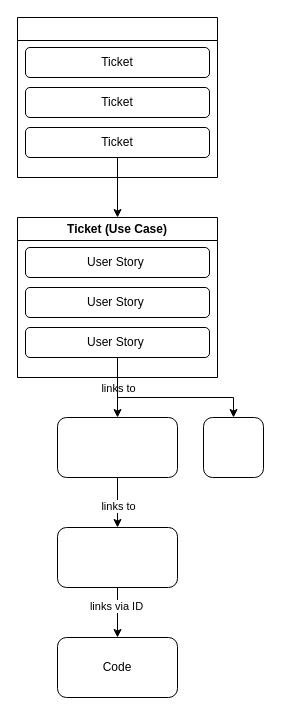
Some shapes in this 281 by 715 pixel diagram are drawn without their labels. The box of each missing label's shape, as (x1, y1, x2, y2) in pixels:
Design Models: (56, 526, 178, 588)
Epic (Milestone): (16, 16, 218, 178)
Requirement Models: (56, 416, 178, 478)
Risks: (202, 416, 264, 478)
